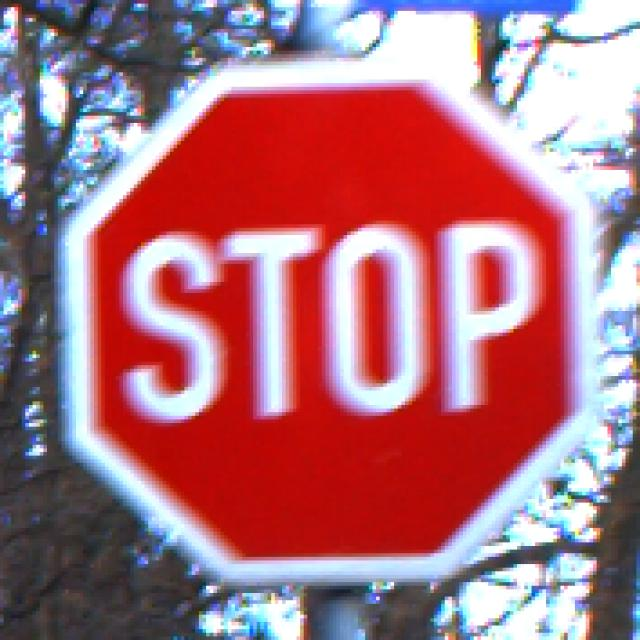STOP: (59, 55, 587, 587)
